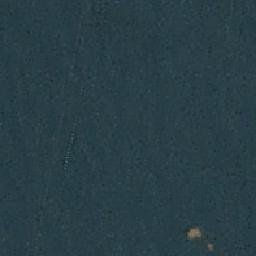debris: (184, 225, 217, 251)
